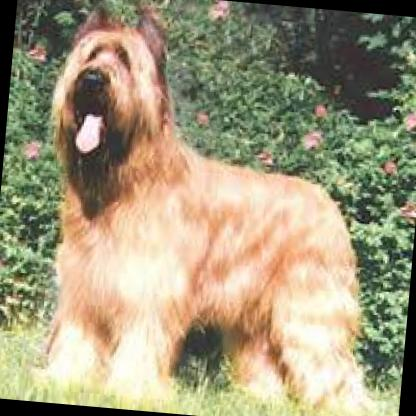briard: (20, 8, 411, 416)
